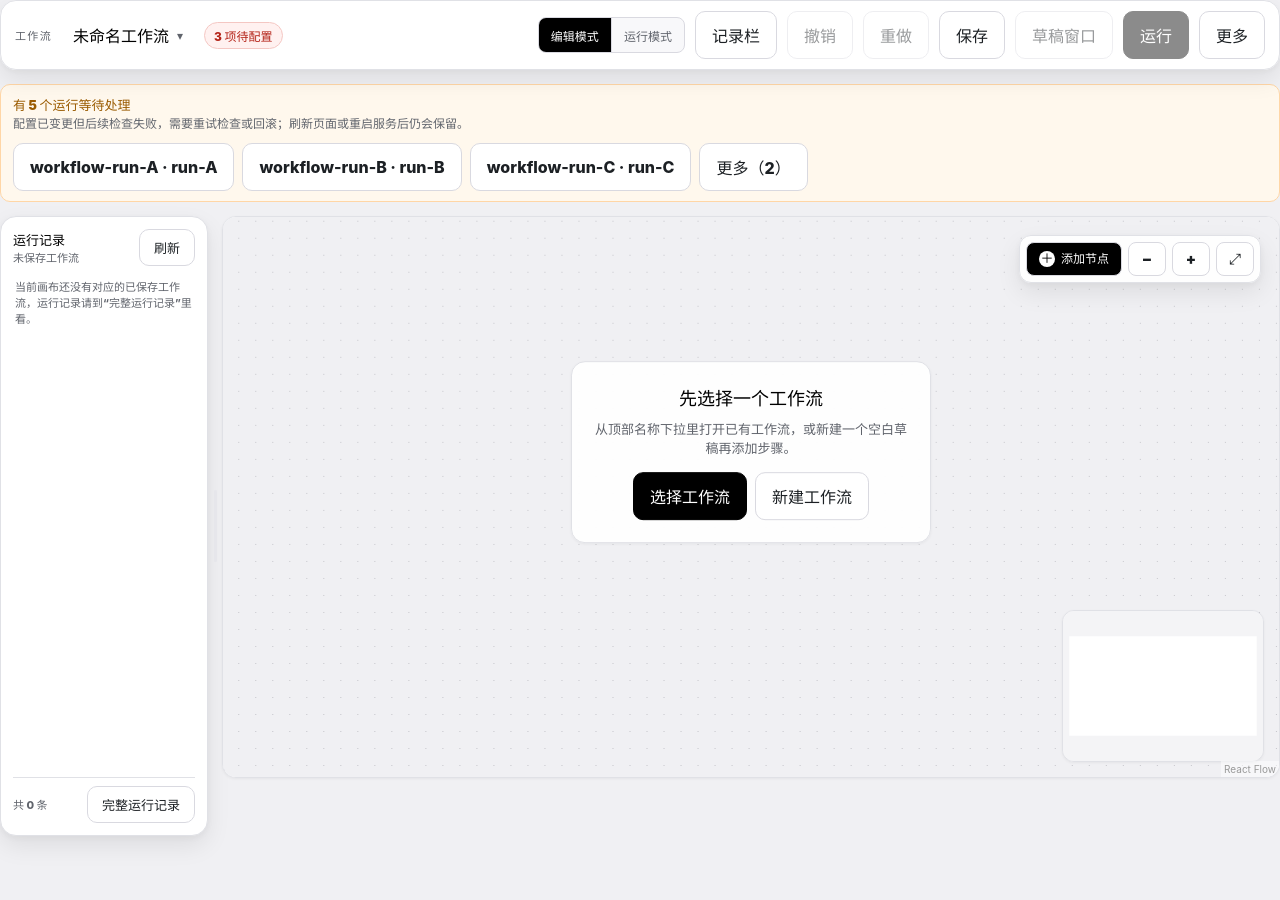
Test case: WorkflowEditor 恢复运行隔离 › 展开更多后可以打开第五条待处理记录
The image size is (1280, 900).
Step 1. Click the button "更多（2）" → point(754, 167), box [699,143,808,191]
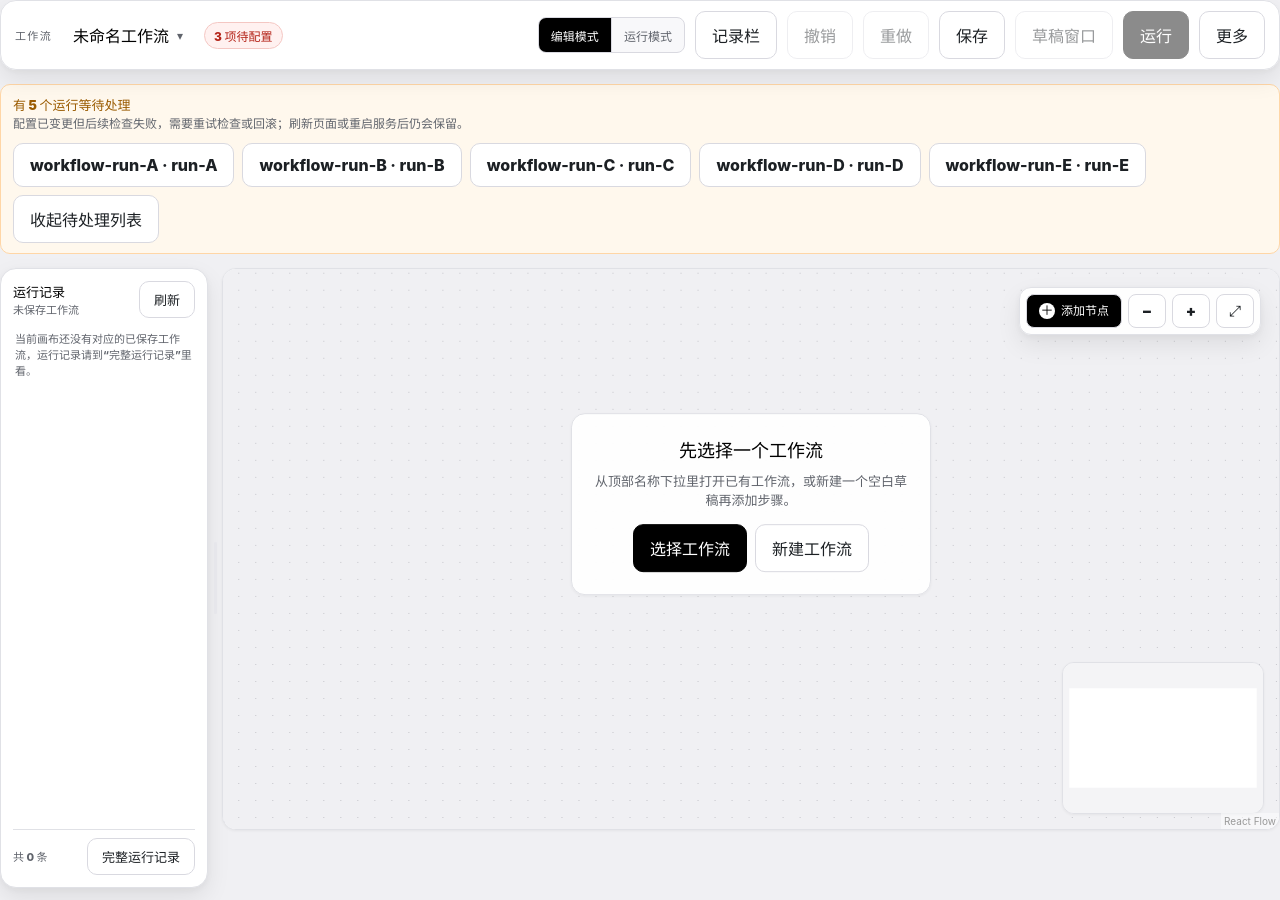
Step 2. Click the button "workflow-run-E · run-E" → point(1037, 165), box [928,143,1146,187]
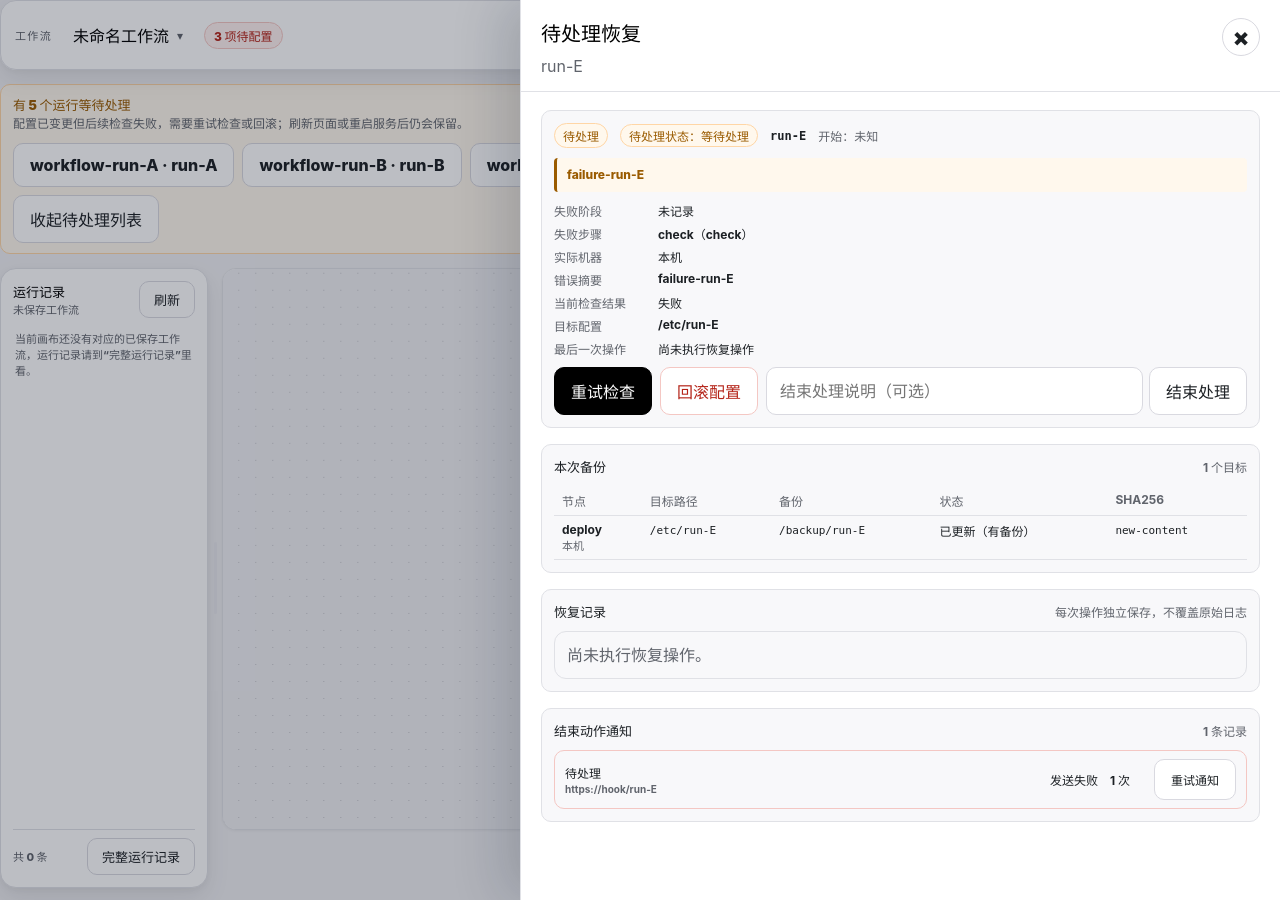
Now the dialog with class "workflowRecoveryDrawer" shows "/etc/run-E", box [658,317,718,332]
